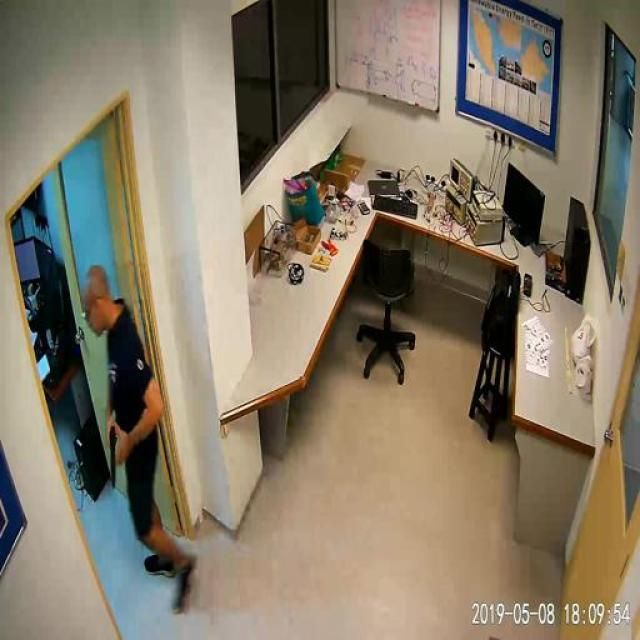Gun: (95, 416, 126, 491)
